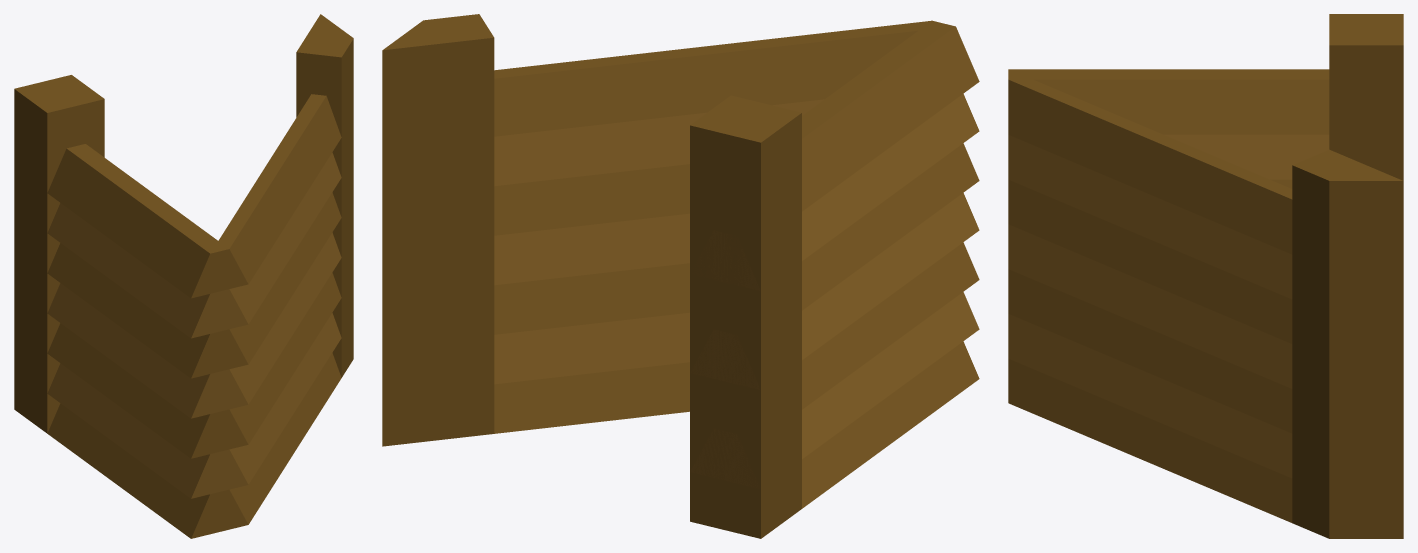
The picture shows the model from 3 angles, left to right: view 1: azimuth 30°, elevation 25°; view 2: azimuth 150°, elevation 25°; view 3: azimuth 270°, elevation 25°; orthographic projection. The views are drawn at different scales.
Size of the model in its own units: 128 by 128 by 128.
Materials: 1 (1 with a texture image).
